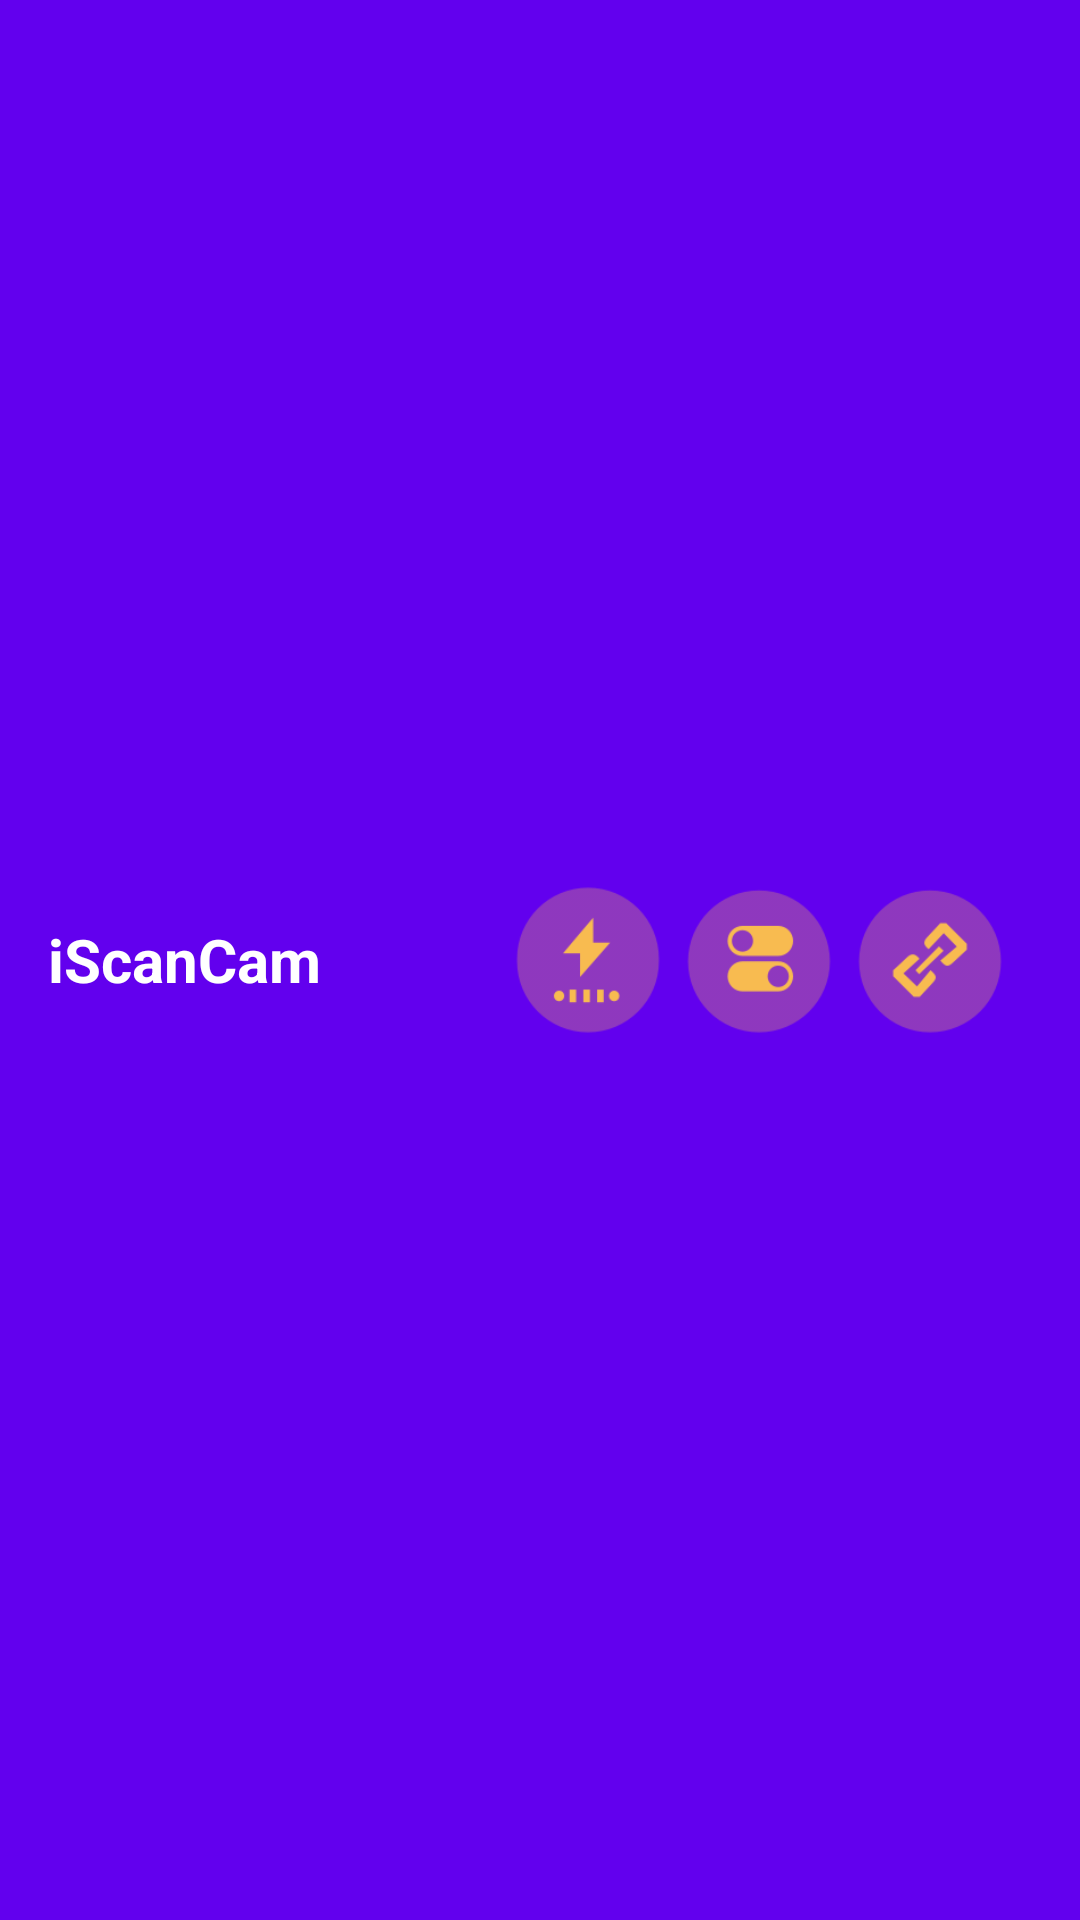

Icons on this 1080 x 1920 Android screen, each with its box as (x1, y1, x2, y2):
hotkey homecontrol: (688, 890, 830, 1032)
hotkey meter: (517, 888, 659, 1032)
